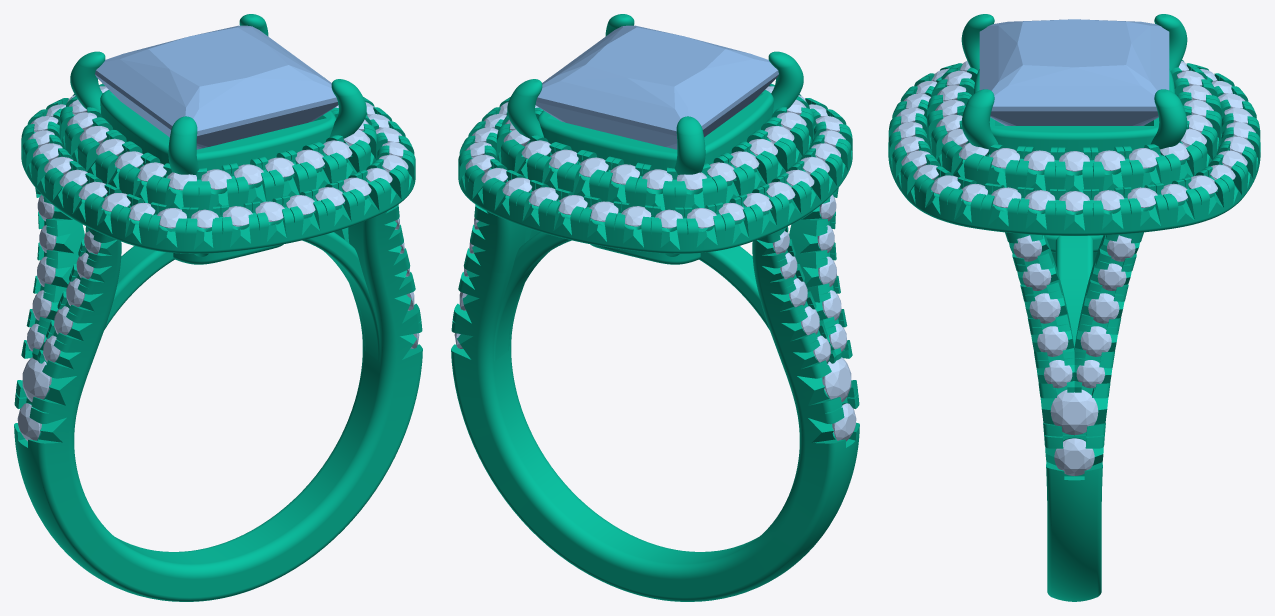
3 views of the same model, side by side, from view 1: azimuth 30°, elevation 25°; view 2: azimuth 150°, elevation 25°; view 3: azimuth 270°, elevation 25° (orthographic).
Visible parts, largest first — view 1: VR459 21-8-25 003(front).3dm, Diamond_Princess, Head Prong (×3), Diamond_Round (×2); view 2: VR459 21-8-25 003(front).3dm, Diamond_Princess, Head Prong (×3), Diamond_Round (×2); view 3: VR459 21-8-25 003(front).3dm, Diamond_Princess, Diamond_Round (×12), Head Prong (×4).
Part boxes in pixels (bbox=[...]): VR459 21-8-25 003(front).3dm: bbox=[14, 83, 422, 601]; Diamond_Princess: bbox=[95, 25, 338, 149]; Head Prong (×3): bbox=[70, 51, 366, 174]; Diamond_Round (×2): bbox=[17, 357, 51, 441]; VR459 21-8-25 003(front).3dm: bbox=[451, 83, 859, 601]; Diamond_Princess: bbox=[535, 25, 778, 149]; Head Prong (×3): bbox=[507, 51, 803, 174]; Diamond_Round (×2): bbox=[822, 357, 856, 441]; VR459 21-8-25 003(front).3dm: bbox=[888, 60, 1260, 601]; Diamond_Princess: bbox=[979, 19, 1169, 125]; Diamond_Round (×12): bbox=[1013, 235, 1135, 475]; Head Prong (×4): bbox=[961, 14, 1187, 155].
Size of the model in its own units: 2.18 by 2.84 by 1.78.
